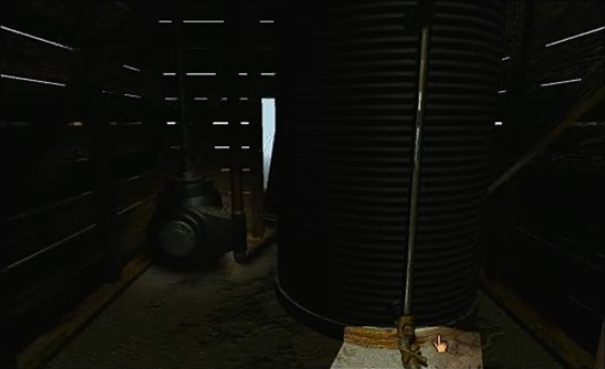Pointer: (430, 331, 452, 354)
